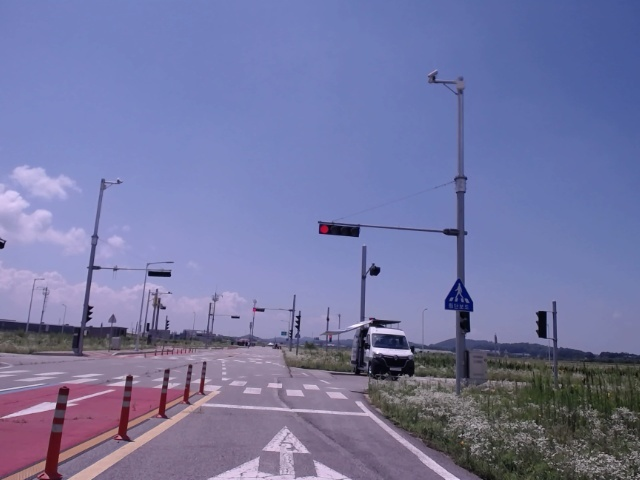red_4: (319, 224, 359, 236)
